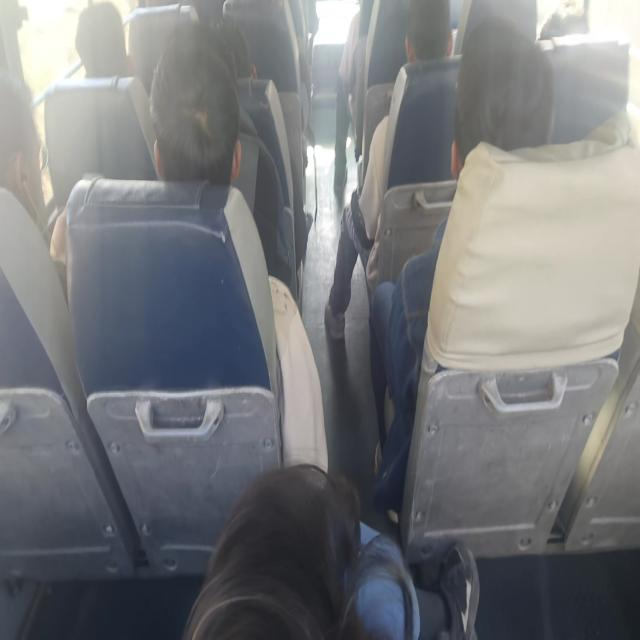person: (368, 15, 556, 523), (324, 0, 455, 341), (149, 22, 299, 302), (183, 462, 421, 638), (1, 74, 68, 301), (74, 1, 130, 78)
